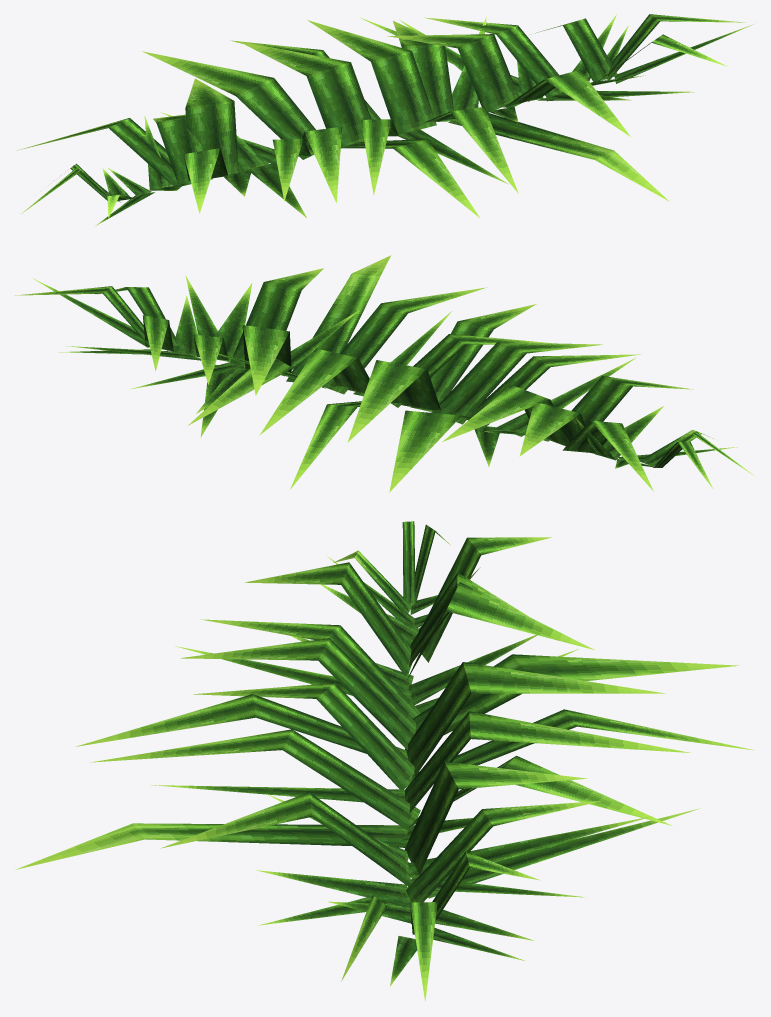
The model's file is Lowcut Grass.obj.
3 renders of one model, top to bottom at view 1: azimuth 30°, elevation 25°; view 2: azimuth 150°, elevation 25°; view 3: azimuth 270°, elevation 25°, orthographic. The views are drawn at different scales.
Parts seen in each view (by area): view 1: MODELS_bin_017:poly000; view 2: MODELS_bin_017:poly000; view 3: MODELS_bin_017:poly000.
Boxes of the visible parts, <box> form: MODELS_bin_017:poly000: <box>17,14,755,225</box>; MODELS_bin_017:poly000: <box>15,255,753,492</box>; MODELS_bin_017:poly000: <box>15,521,755,1001</box>.
Size of the model in its own units: 2.26 by 0.1777 by 1.44.
1 material, 1 textured.
